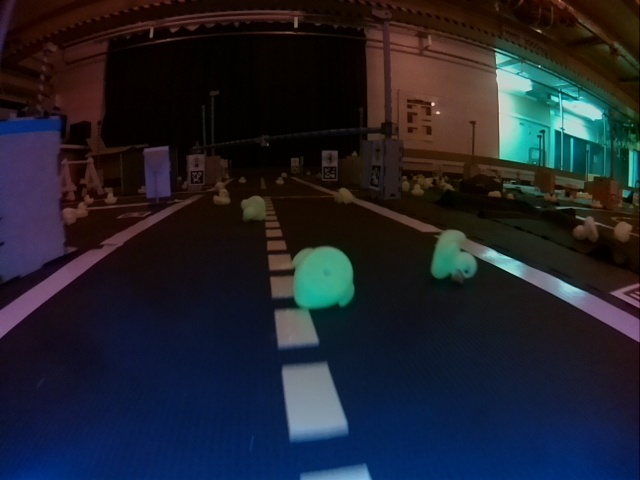Duckie: (291, 247, 354, 308), (430, 224, 478, 288), (242, 196, 267, 221), (572, 218, 598, 241), (334, 188, 353, 205), (214, 190, 230, 204), (76, 204, 89, 216), (105, 193, 117, 204)
